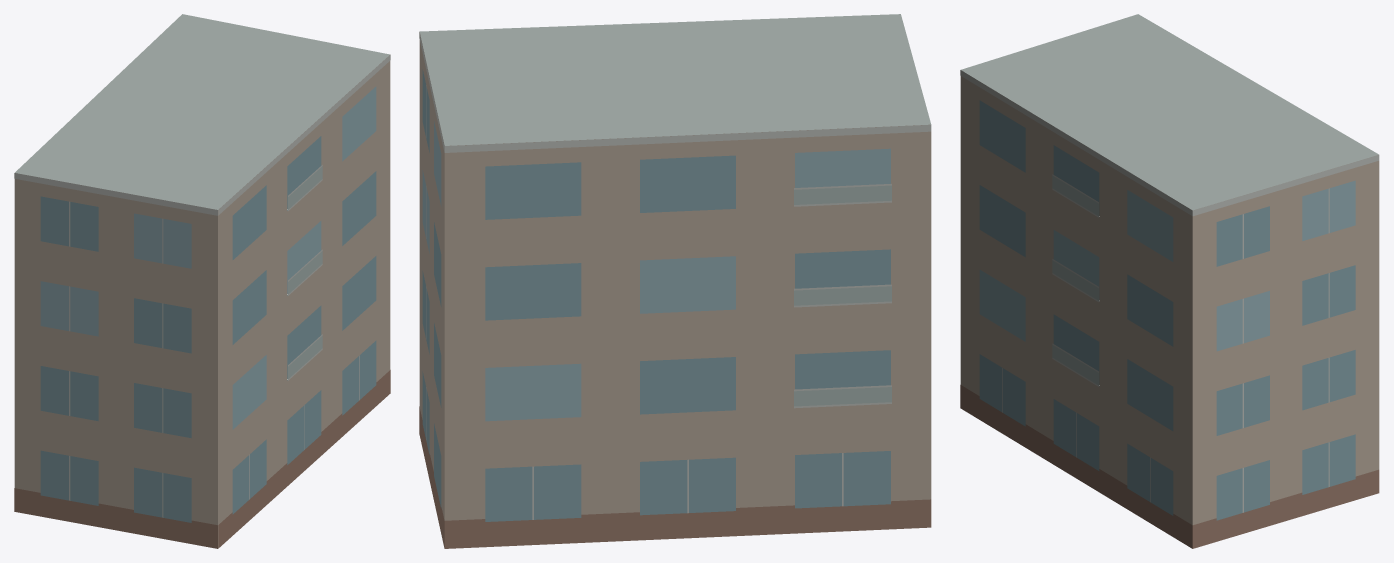
Rendered from survey-upis-33041042.glb.
3 views of the same model, side by side, from view 1: azimuth 30°, elevation 25°; view 2: azimuth 150°, elevation 25°; view 3: azimuth 270°, elevation 25° (orthographic). The views are drawn at different scales.
Visible parts, largest first — view 1: survey-upis-33041042.tmp; view 2: survey-upis-33041042.tmp; view 3: survey-upis-33041042.tmp.
Boxes of the visible parts, x1,y1,x2,y2 form: survey-upis-33041042.tmp: [14, 14, 390, 548]; survey-upis-33041042.tmp: [419, 14, 931, 548]; survey-upis-33041042.tmp: [960, 14, 1379, 548].
Size of the model in its own units: 17.44 by 14 by 15.71.
